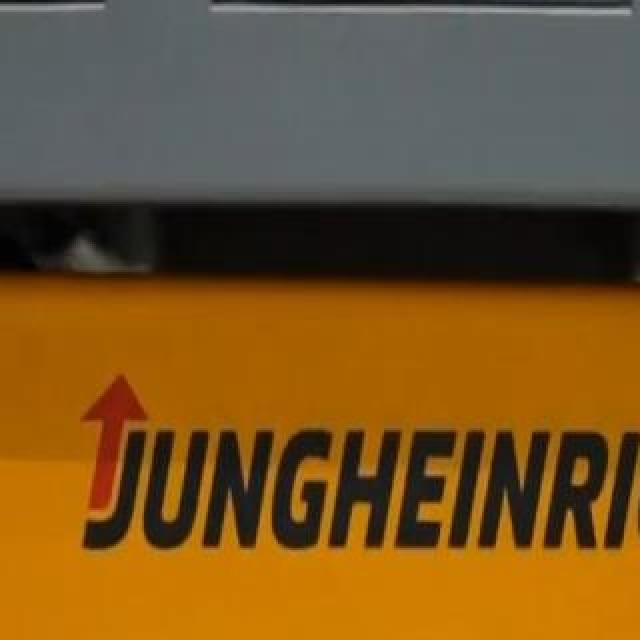car: (0, 282, 640, 640)
pallet: (0, 0, 640, 216)
